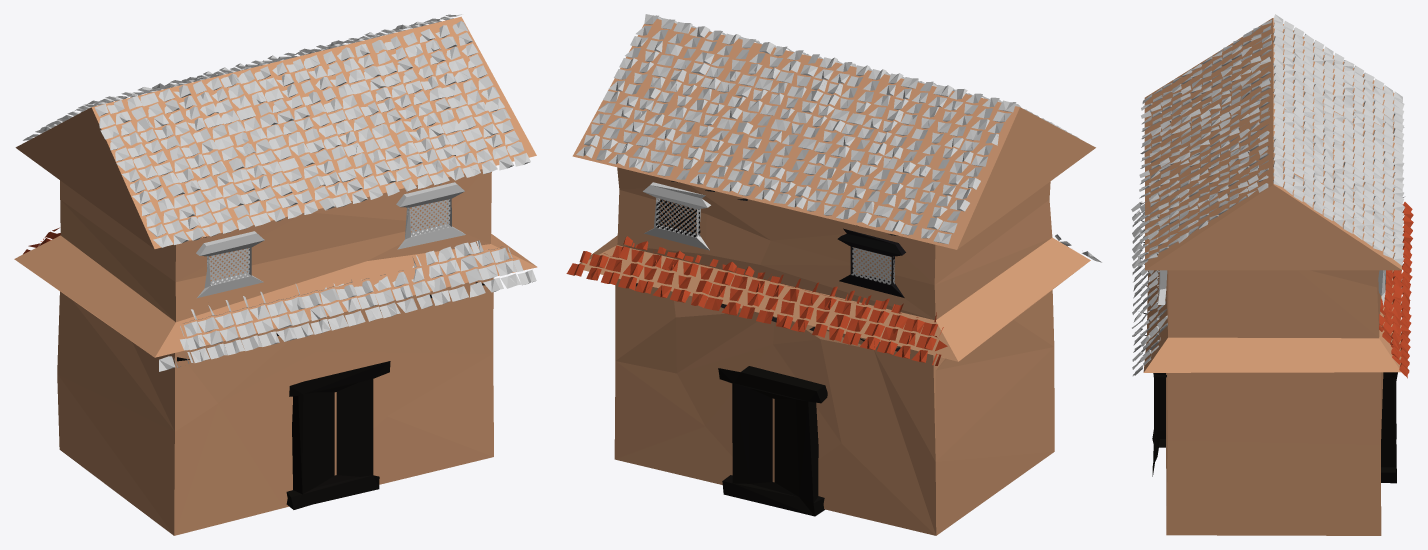
File: lowwhouse.fbx
3 views of the same model, side by side, from view 1: azimuth 30°, elevation 25°; view 2: azimuth 150°, elevation 25°; view 3: azimuth 270°, elevation 25° (orthographic). The views are drawn at different scales.
Parts seen in each view (by area): view 1: Circle; view 2: Circle; view 3: Circle.
Part boxes in pixels (box(x1,y1,x2,y2)): Circle: box(14, 14, 537, 535); Circle: box(566, 14, 1101, 535); Circle: box(1131, 14, 1413, 535).
Bounding box in the file's own units: 9.61 × 6.57 × 9.44.
